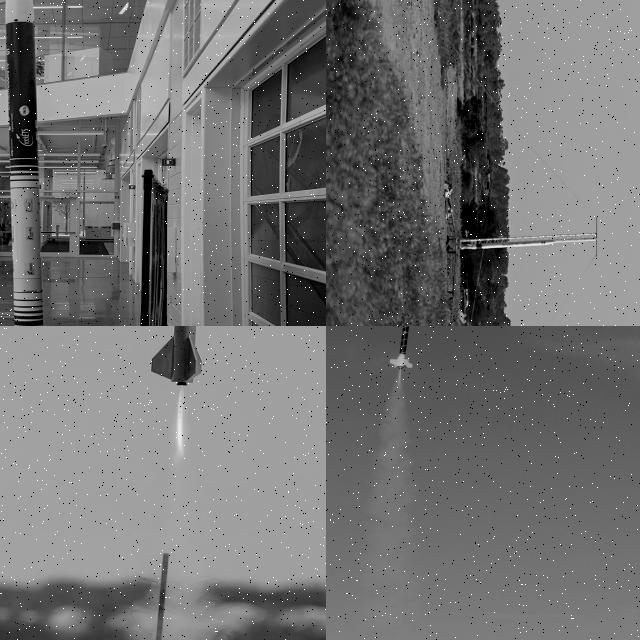Rocket: (5, 0, 44, 326), (149, 326, 204, 385), (389, 326, 416, 372), (462, 239, 556, 251)
